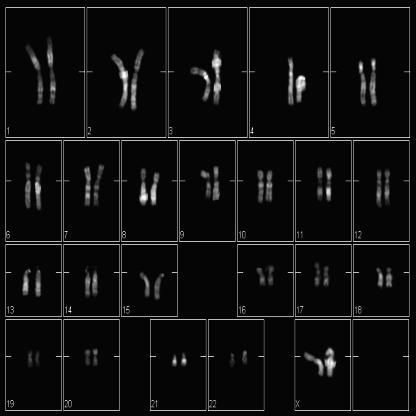1: (21, 37, 45, 108), (44, 30, 60, 108)
10: (265, 164, 276, 209), (256, 164, 266, 209)
11: (324, 163, 334, 208), (315, 162, 324, 207)
12: (383, 165, 393, 208), (373, 165, 383, 208)
13: (20, 264, 32, 298), (32, 264, 44, 298)
14: (82, 263, 90, 299), (92, 264, 100, 300)
15: (152, 268, 166, 301), (138, 268, 152, 300)
16: (266, 262, 280, 290), (254, 262, 266, 290)
17: (310, 258, 322, 290), (322, 257, 333, 289)
18: (372, 262, 386, 292), (385, 262, 398, 292)
19: (22, 346, 35, 372), (35, 346, 46, 372)
2: (129, 42, 148, 109), (108, 50, 129, 110)
20: (92, 344, 104, 369), (82, 344, 92, 369)
21: (168, 350, 178, 372), (178, 350, 188, 372)
22: (228, 348, 236, 373), (241, 348, 249, 373)
3: (187, 63, 211, 104), (211, 45, 224, 104)
4: (295, 65, 309, 111), (286, 53, 294, 112)
5: (355, 58, 368, 108), (368, 58, 380, 108)
6: (22, 158, 34, 212), (33, 158, 44, 212)
7: (93, 160, 106, 209), (82, 164, 92, 210)
8: (149, 163, 160, 208), (138, 164, 148, 209)
9: (198, 166, 212, 201), (211, 166, 223, 202)
X: (301, 348, 325, 380), (324, 340, 338, 379)
